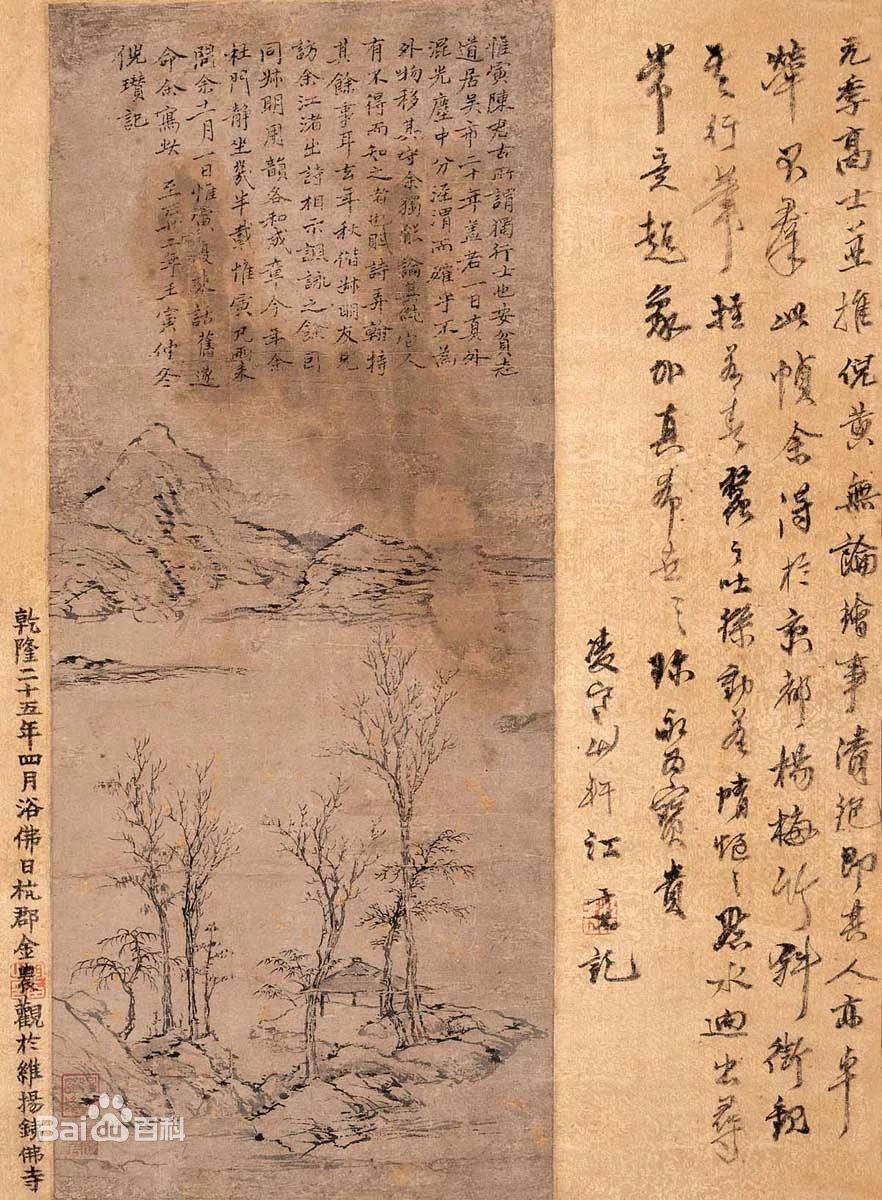booth: (306, 950, 438, 1035)
hill: (56, 415, 452, 637)
tree: (341, 625, 467, 1062), (102, 731, 235, 1056), (260, 790, 360, 1106)
